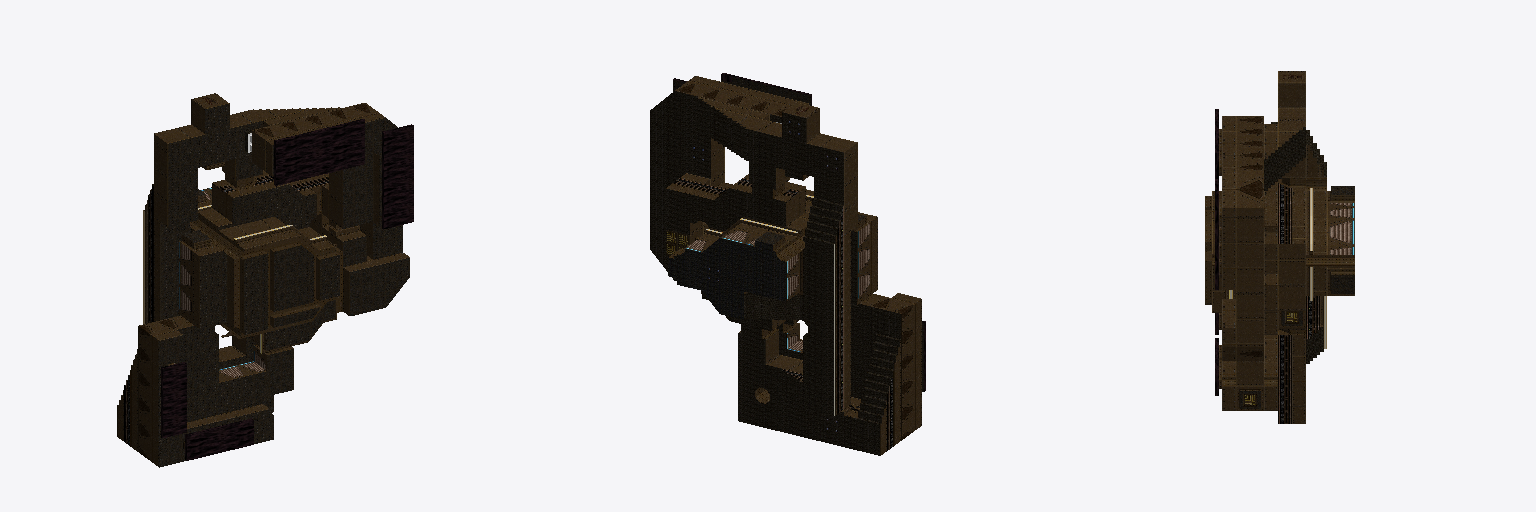
3 renders of one model, left to right at view 1: azimuth 30°, elevation 25°; view 2: azimuth 150°, elevation 25°; view 3: azimuth 270°, elevation 25°, orthographic.
Bounding box in the file's own units: 1328 × 1616 × 688.
Materials: 24 (23 with a texture image).